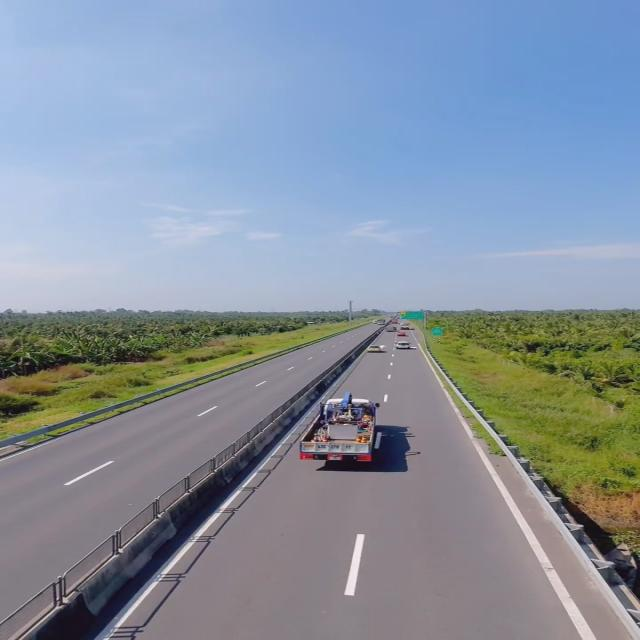truck: (293, 395, 386, 466)
